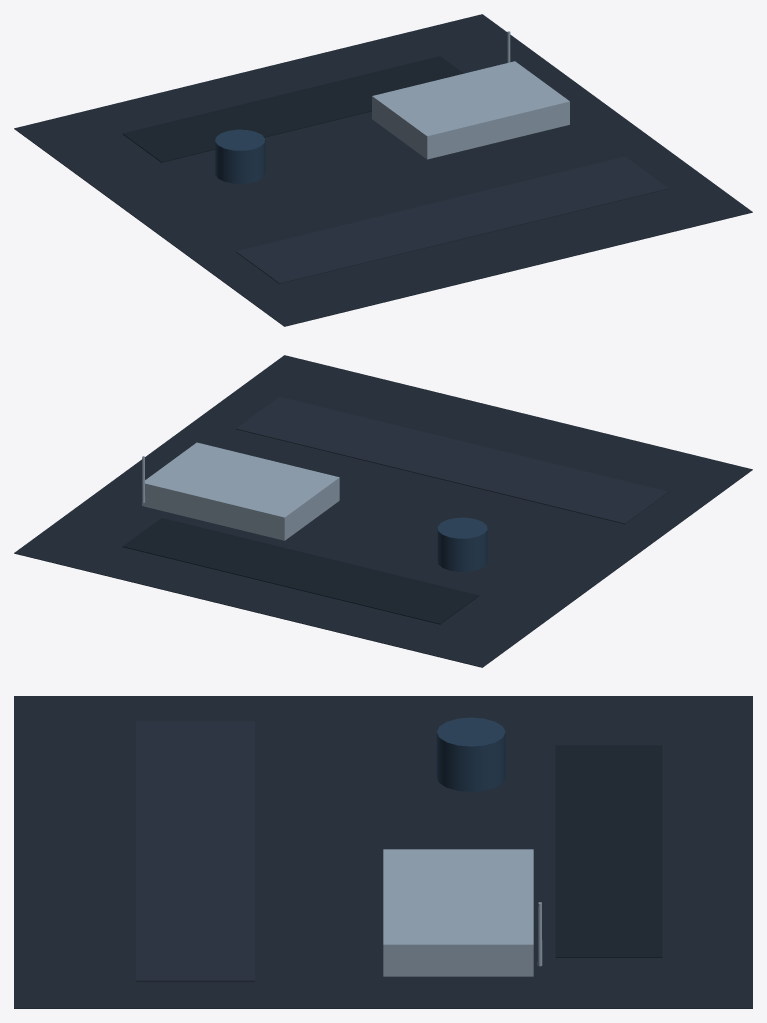
File: chunk-sector-core-static.proxy.glb
The picture shows the model from 3 angles, top to bottom: view 1: azimuth 30°, elevation 25°; view 2: azimuth 150°, elevation 25°; view 3: azimuth 270°, elevation 25°; orthographic projection. The views are drawn at different scales.
Visible parts, largest first — view 1: dtmesh:0:0 (×5); view 2: dtmesh:0:0 (×5); view 3: dtmesh:0:0 (×5).
Part boxes in pixels (x1,y1,x2,y2): dtmesh:0:0 (×5): (14,14,752,326); dtmesh:0:0 (×5): (14,355,752,667); dtmesh:0:0 (×5): (14,696,752,1008).
Size of the model in its own units: 236 by 25.24 by 236.
